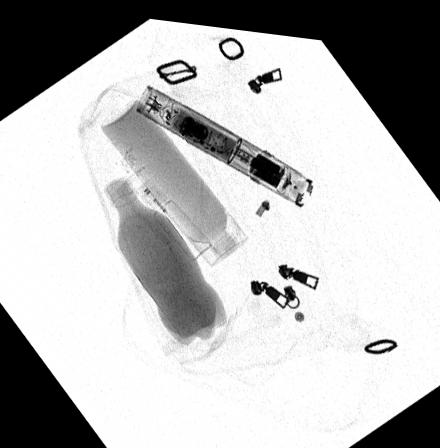Baton: (135, 79, 314, 198)
